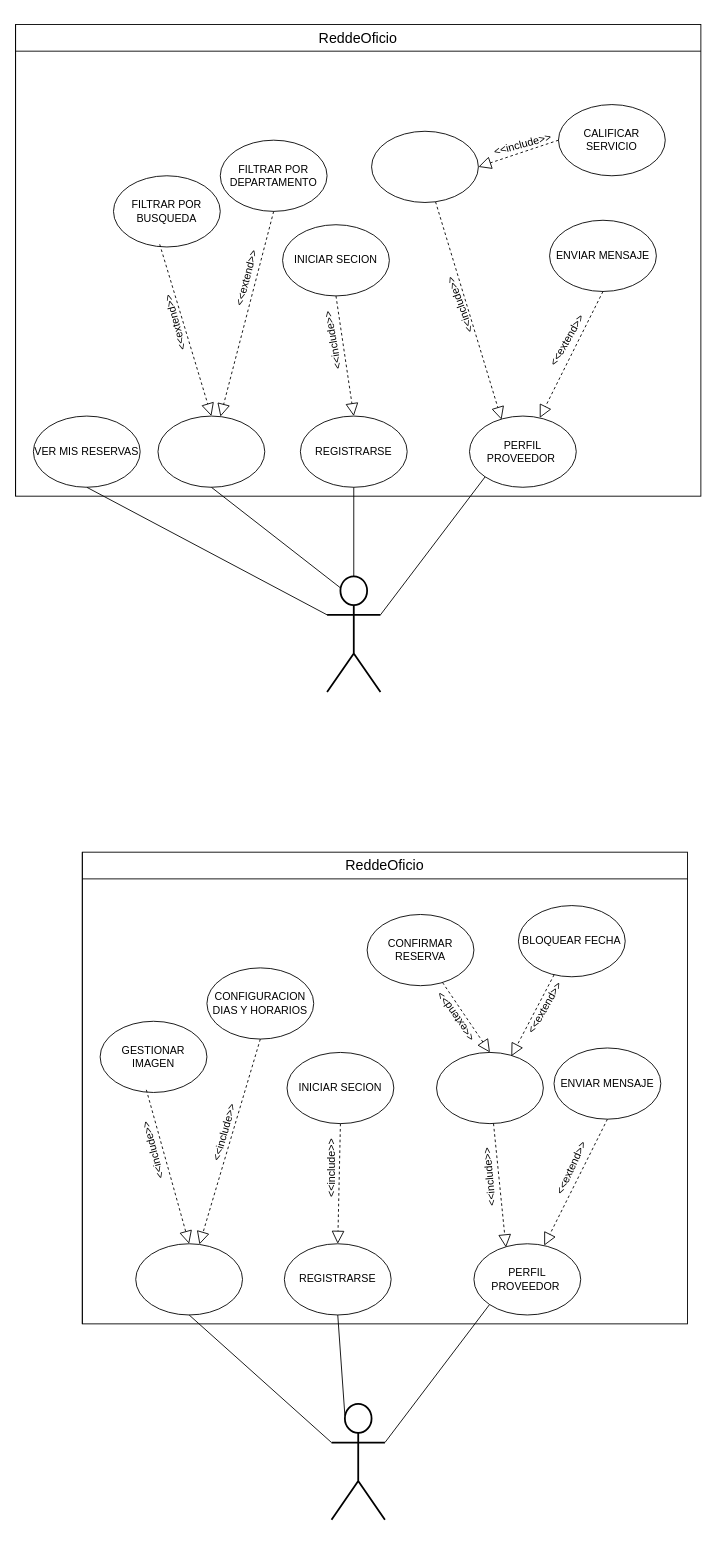
This 716x1553 diagram has some shape labels left out. The shapes that lost their labels are listed below. From the top down, each one's centre as x and y in pixels, then its label:
At (424,166): "CONTRATAR SERVICIO".
At (211,451): "BUSCAR SERVICIOS".
At (353,633): "Cliente".
At (489,1088): "VER RESERVAS".
At (189,1279): "CREAR PUBLICACION".
At (357,1461): "Proveedor".
